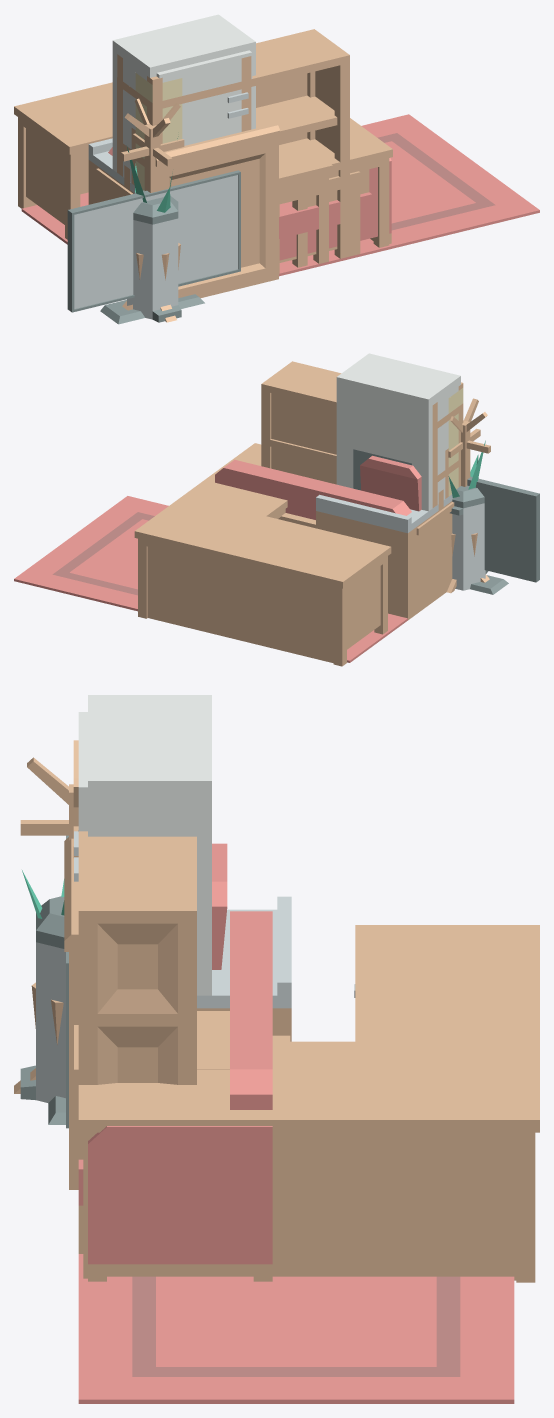
The model's file is office.glb.
3 renders of one model, top to bottom at view 1: azimuth 30°, elevation 25°; view 2: azimuth 150°, elevation 25°; view 3: azimuth 270°, elevation 25°, orthographic. The views are drawn at different scales.
Parts seen in each view (by area): view 1: f_televisionModern, f_deskCorner, f_rugRectangle, f_bookcaseClosedWide, f_kitchenFridge, f_paneling, f_trashcan, f_desk, f_loungeSofa, f_coatRackStanding, f_table, f_lampSquareFloor (+3 smaller); view 2: f_deskCorner, f_kitchenFridge, f_bookcaseClosedWide, f_rugRectangle, f_kitchenCabinet, f_televisionModern, f_loungeSofa, f_trashcan, f_chairDesk, f_coatRackStanding, f_loungeChair, f_lampSquareFloor (+3 smaller); view 3: f_deskCorner, f_rugRectangle, f_loungeSofa, f_bookcaseClosedWide, f_kitchenFridge, f_trashcan, f_kitchenCabinet, f_paneling, f_loungeChair, f_coatRackStanding, f_desk, f_chairDesk (+1 smaller).
Part boxes in pixels (box(x1,y1,x2,y2)): f_televisionModern: box(67, 170, 240, 324); f_deskCorner: box(14, 82, 392, 267); f_rugRectangle: box(21, 114, 539, 276); f_bookcaseClosedWide: box(117, 29, 349, 262); f_kitchenFridge: box(112, 14, 255, 182); f_paneling: box(155, 123, 280, 298); f_trashcan: box(127, 190, 181, 322); f_desk: box(96, 140, 332, 263); f_loungeSofa: box(110, 147, 391, 260); f_coatRackStanding: box(121, 98, 184, 322); f_table: box(279, 171, 360, 256); f_lampSquareFloor: box(135, 73, 182, 190); f_deskCorner: box(134, 443, 391, 666); f_kitchenFridge: box(336, 353, 460, 511); f_bookcaseClosedWide: box(261, 361, 463, 507); f_rugRectangle: box(14, 496, 407, 662); f_kitchenCabinet: box(316, 494, 452, 620); f_televisionModern: box(467, 476, 539, 594); f_loungeSofa: box(215, 459, 410, 518); f_trashcan: box(450, 485, 488, 590); f_chairDesk: box(360, 455, 421, 511); f_coatRackStanding: box(447, 398, 490, 593); f_loungeChair: box(308, 485, 411, 519); f_lampSquareFloor: box(448, 388, 463, 496); f_deskCorner: box(78, 925, 539, 1282); f_rugRectangle: box(78, 1254, 514, 1403); f_loungeSofa: box(78, 971, 272, 1281); f_bookcaseClosedWide: box(78, 831, 196, 1084); f_kitchenFridge: box(74, 695, 211, 995); f_trashcan: box(20, 896, 65, 1102); f_kitchenCabinet: box(197, 896, 291, 1041); f_paneling: box(64, 837, 78, 1189); f_loungeChair: box(230, 911, 272, 971); f_coatRackStanding: box(14, 740, 78, 1093); f_desk: box(74, 1011, 229, 1082); f_chairDesk: box(212, 843, 227, 969).
Bounding box in the file's own units: 1.91 × 0.92 × 1.11.
